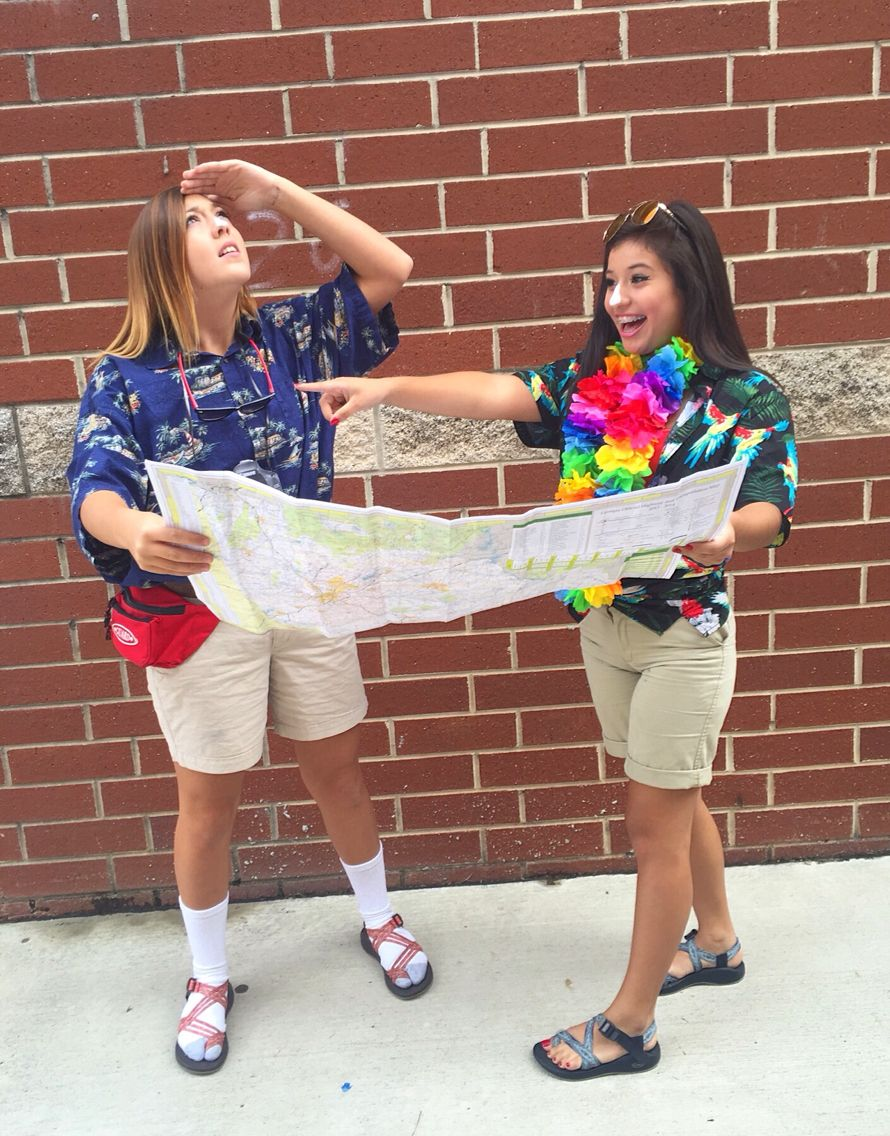Person: (65, 160, 434, 1075), (435, 199, 802, 1083)
